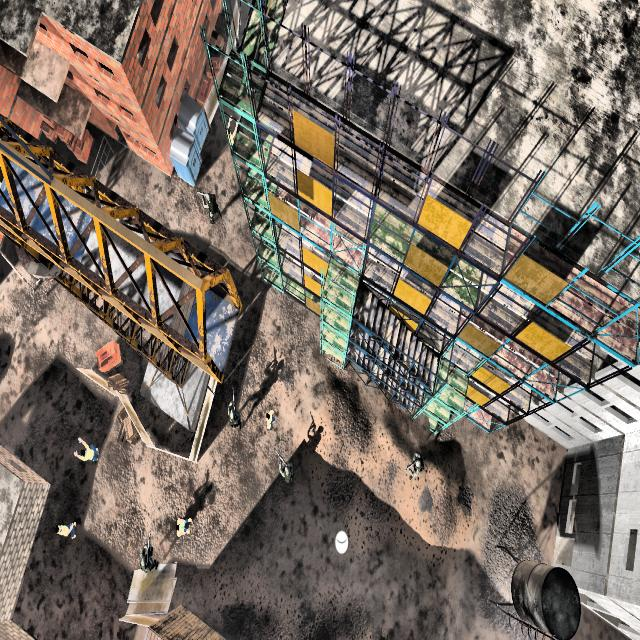bad: (272, 452, 302, 501), (402, 441, 431, 489), (136, 530, 158, 592), (198, 185, 224, 232), (223, 393, 244, 436)
good: (52, 512, 81, 553), (74, 437, 100, 473), (170, 510, 194, 549), (260, 400, 279, 439), (223, 120, 239, 149)
